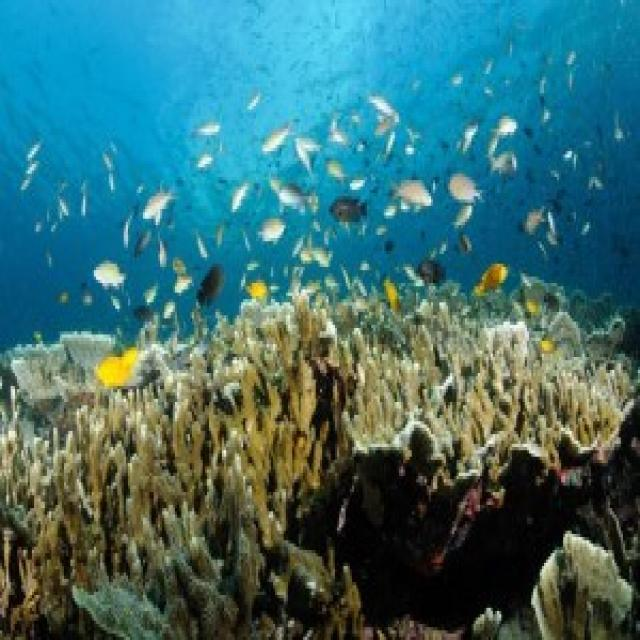Healthy: (1, 297, 362, 638), (344, 323, 630, 573)
